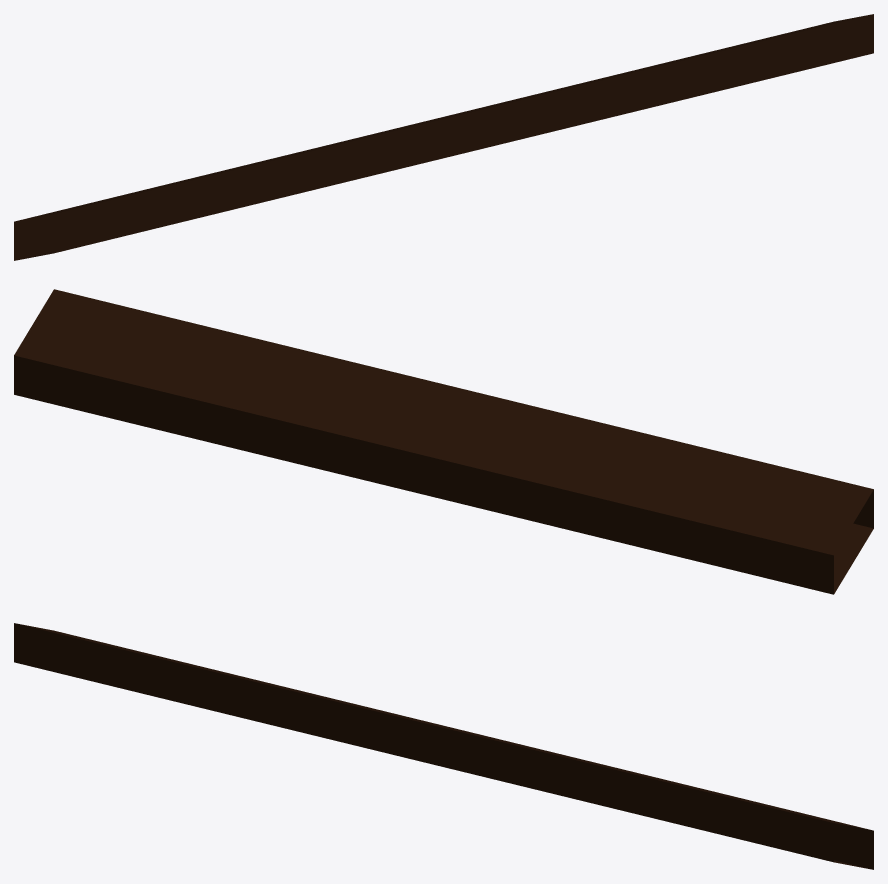
Rendered from Roof_Side_01A.fbx.
The picture shows the model from 3 angles, top to bottom: view 1: azimuth 30°, elevation 25°; view 2: azimuth 150°, elevation 25°; view 3: azimuth 330°, elevation 25°; orthographic projection.
Parts seen in each view (by area): view 1: Roof_Side_01A; view 2: Roof_Side_01A; view 3: Roof_Side_01A.
Part boxes in pixels (<box>): Roof_Side_01A: <box>14,14,873,260</box>; Roof_Side_01A: <box>14,289,873,594</box>; Roof_Side_01A: <box>14,623,873,869</box>.
Bounding box in the file's own units: 300 × 26.65 × 25.4.
